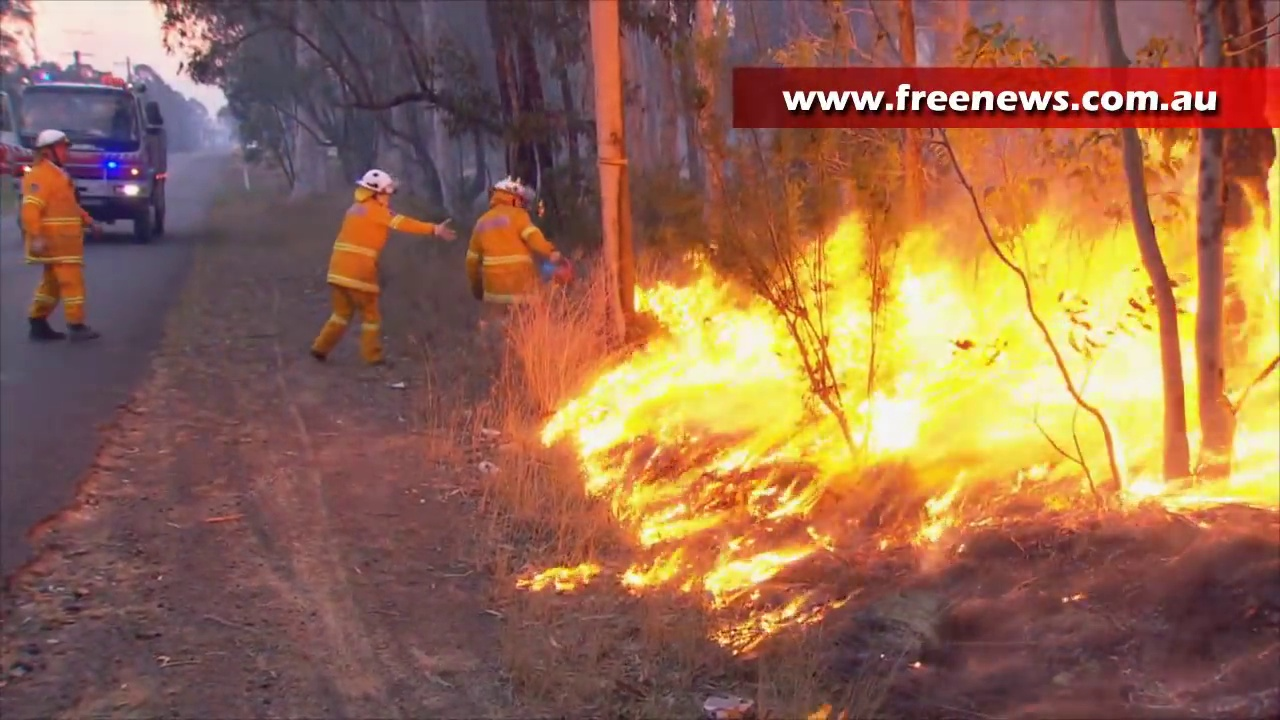fire: (540, 207, 1270, 593)
